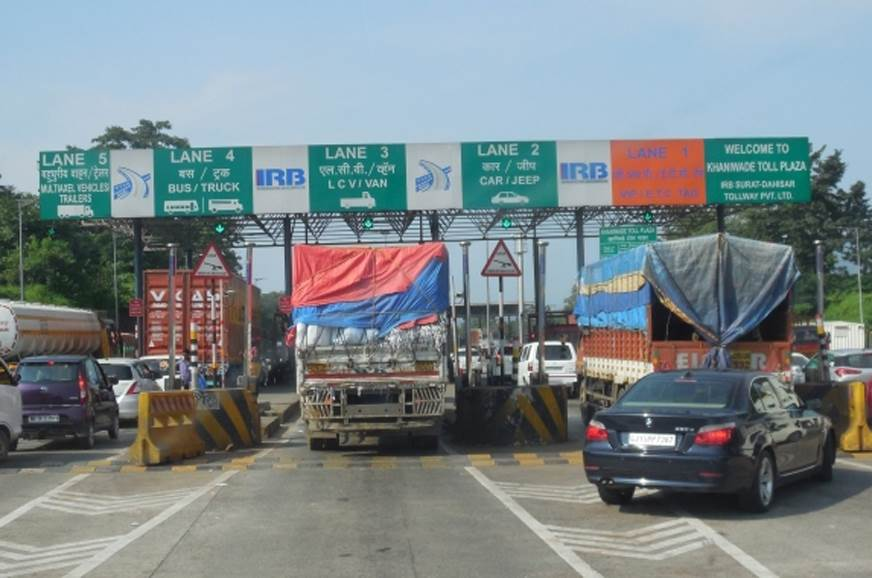toll plaza: (34, 131, 814, 224)
